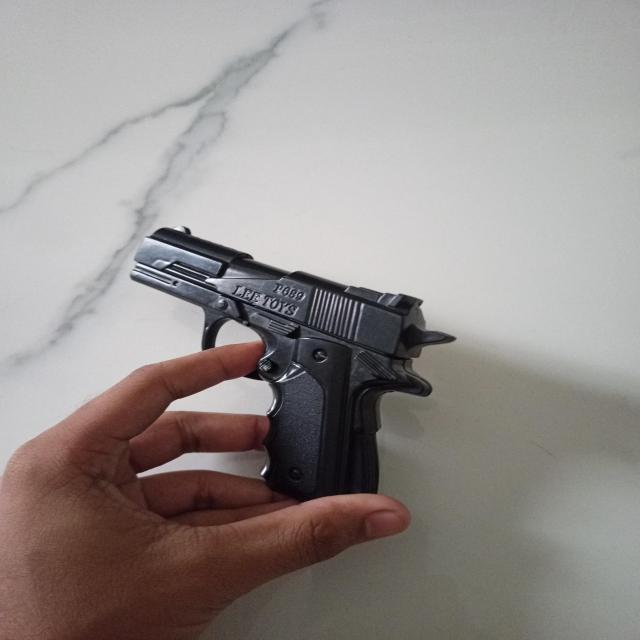handgun: (125, 225, 461, 497)
